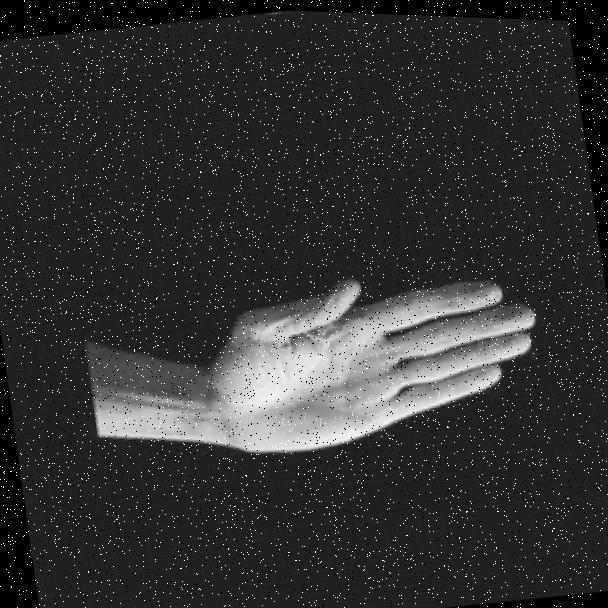five: (158, 240, 560, 476)
